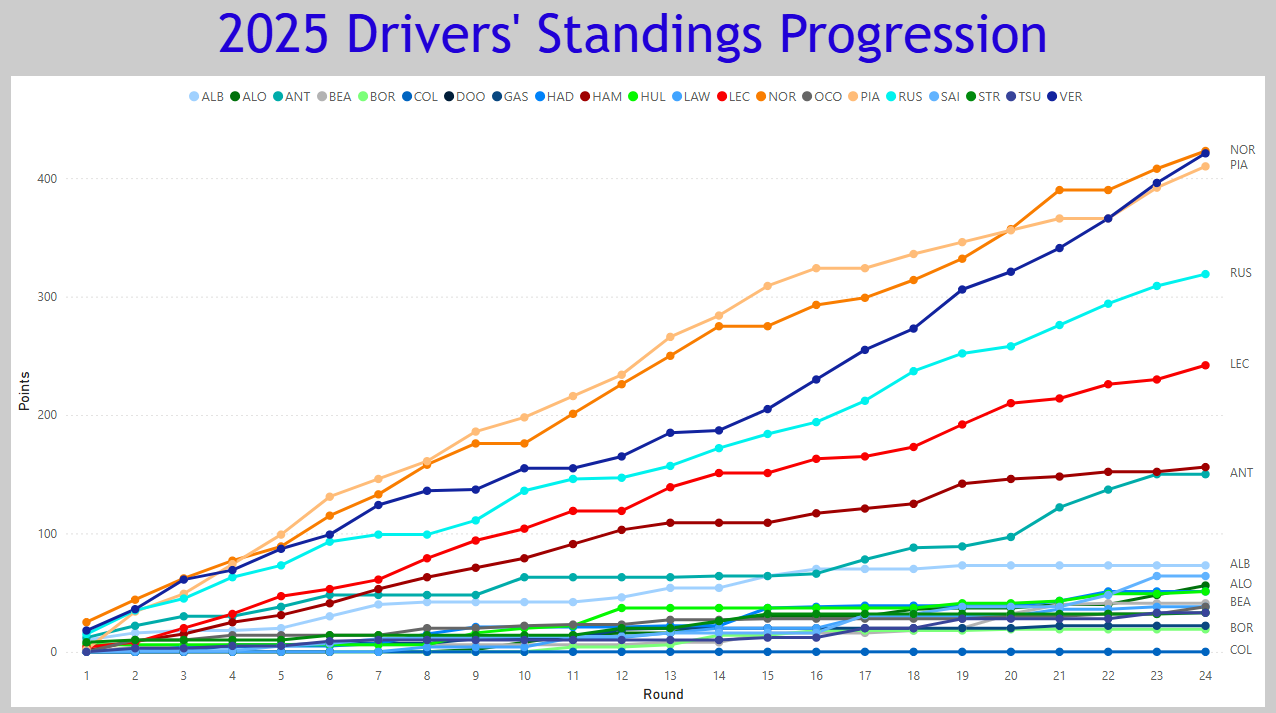

The page's visual inventory and layout, read from the dashboard file:
{"tool":"powerbi","page":{"name":"Drivers' Standings Progression","canvas":[1280,720],"ordinal":6},"visuals":[{"type":"lineChart","fields":{"Category":["Races_2025.Track ID"],"Y":["Races_2025.Cumulative Points"],"Series":["Races_2025.Driver ID"]},"box":[13.1,79.2,1253.8,630.8],"z":0},{"type":"textbox","box":[215.3,0,848.8,73.3],"z":1000}]}

Visuals, with their boxes in screenshot pixels (x1, y1, x2, y2), scaled from the page's 1280x720 canvas onto the 1276x713 screenshot:
lineChart - Races_2025.Track ID x Races_2025.Cumulative Points: bbox(13, 78, 1263, 703)
textbox: bbox(215, 0, 1061, 73)
